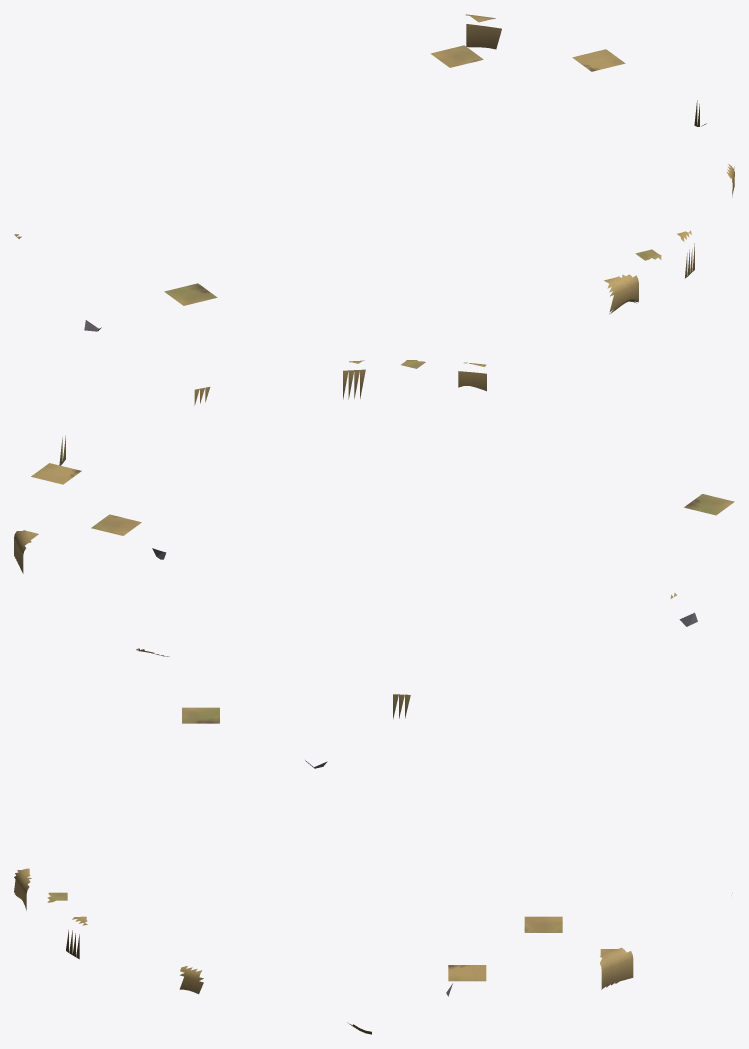
3 renders of one model, top to bottom at view 1: azimuth 30°, elevation 25°; view 2: azimuth 150°, elevation 25°; view 3: azimuth 270°, elevation 25°, orthographic. The views are drawn at different scales.
Visible parts, largest first — view 1: Grass_3_3_0_100, Grass_1_-5_0_000, Grass_2_2_0_100, Grass_-4_-3_0_010, Grass_4_1_0_000; view 2: Grass_2_2_0_100, Grass_-4_-3_0_010, Grass_4_1_0_000, Grass_1_-5_0_000, Grass_3_3_0_100; view 3: Grass_3_3_0_100, Grass_2_2_0_100, Grass_4_1_0_000, Grass_-4_-3_0_010.
Boxes of the visible parts, left/top/right/bottom form: Grass_3_3_0_100: left=465, top=14, right=501, bottom=49; Grass_1_-5_0_000: left=604, top=274, right=638, bottom=314; Grass_2_2_0_100: left=430, top=45, right=483, bottom=67; Grass_-4_-3_0_010: left=164, top=283, right=217, bottom=305; Grass_4_1_0_000: left=572, top=49, right=625, bottom=71; Grass_2_2_0_100: left=91, top=514, right=141, bottom=535; Grass_-4_-3_0_010: left=684, top=494, right=734, bottom=515; Grass_4_1_0_000: left=31, top=463, right=81, bottom=484; Grass_1_-5_0_000: left=458, top=362, right=486, bottom=391; Grass_3_3_0_100: left=14, top=530, right=38, bottom=573; Grass_3_3_0_100: left=600, top=947, right=633, bottom=989; Grass_2_2_0_100: left=524, top=916, right=562, bottom=932; Grass_4_1_0_000: left=448, top=965, right=486, bottom=981; Grass_-4_-3_0_010: left=182, top=707, right=219, bottom=723.
Size of the model in its own units: 625 by 66.54 by 606.
Materials: 13 (13 with a texture image).
